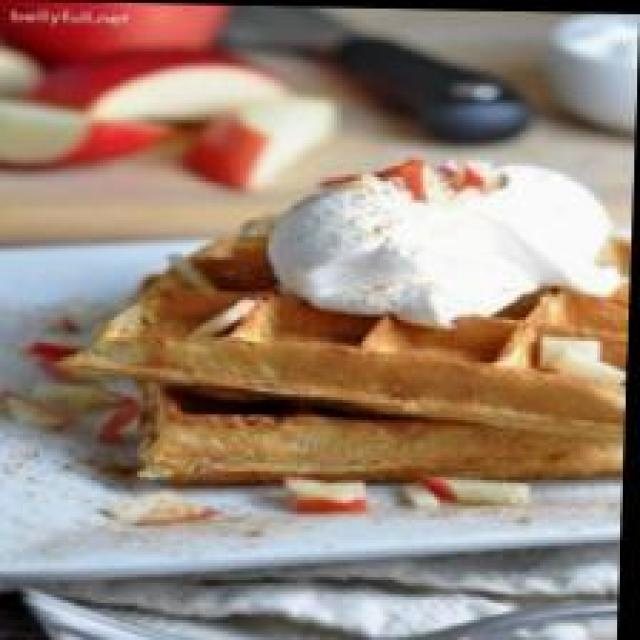Waffles: (69, 197, 632, 506)
